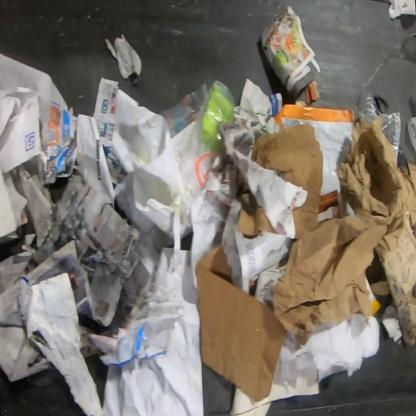cardboard: (274, 216, 388, 346), (196, 242, 288, 402), (252, 124, 322, 239), (233, 165, 280, 240), (399, 161, 416, 241)
rigid_plastic: (159, 80, 235, 197)
soft_plastic: (357, 86, 402, 159), (373, 92, 391, 114), (397, 150, 410, 176), (407, 114, 415, 155)
